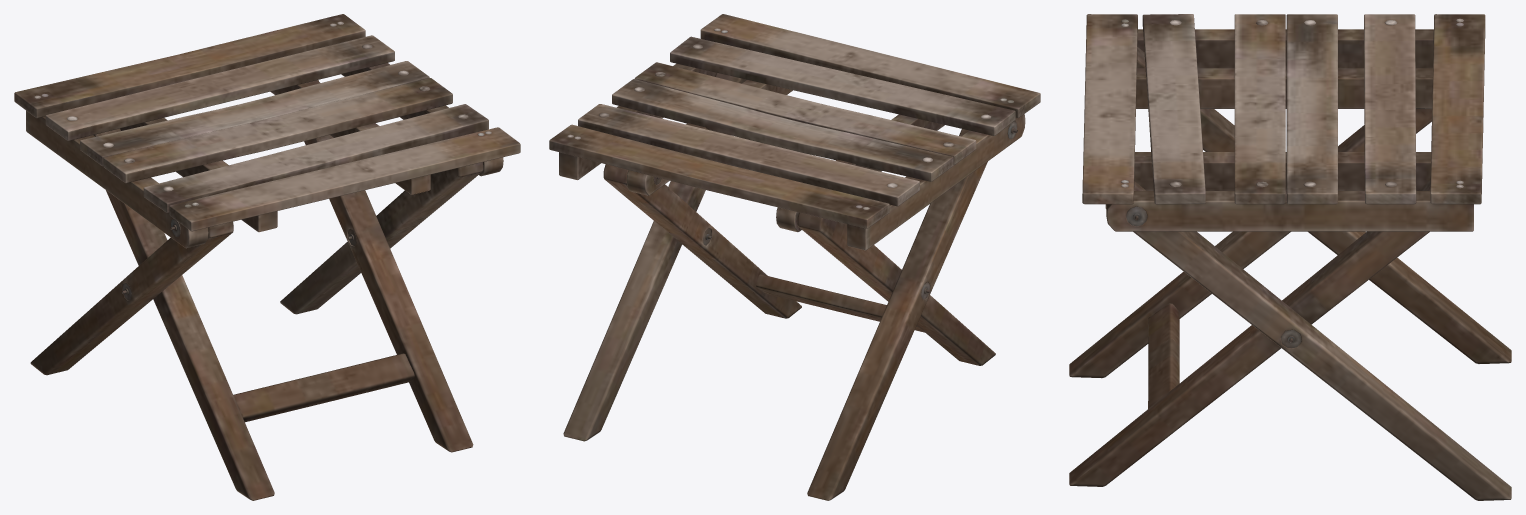
3 views of the same model, side by side, from view 1: azimuth 30°, elevation 25°; view 2: azimuth 150°, elevation 25°; view 3: azimuth 270°, elevation 25° (orthographic). The views are drawn at different scales.
Parts seen in each view (by area): view 1: folding_wooden_stool; view 2: folding_wooden_stool; view 3: folding_wooden_stool.
Part boxes in pixels (<box>): folding_wooden_stool: <box>14,14,520,500</box>; folding_wooden_stool: <box>549,14,1040,500</box>; folding_wooden_stool: <box>1069,14,1511,500</box>.
Bounding box in the file's own units: 0.5278 × 0.442 × 0.5471.
1 material, 1 textured.
